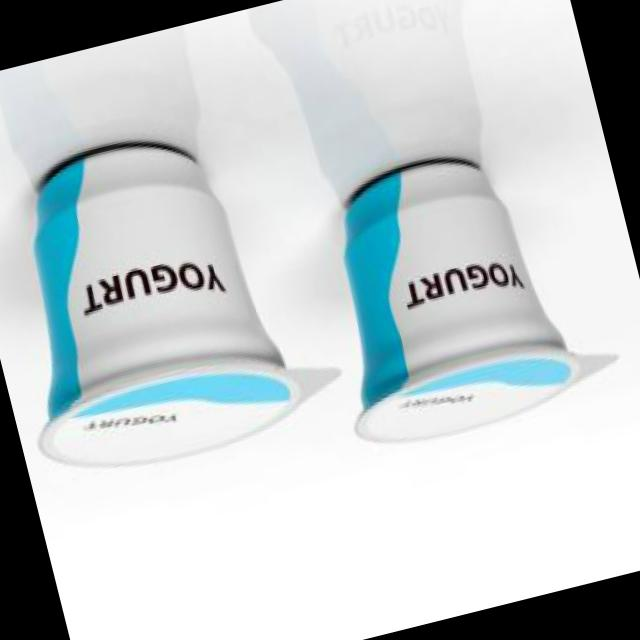KemasanPlastik: (0, 103, 352, 495), (296, 126, 628, 462)
